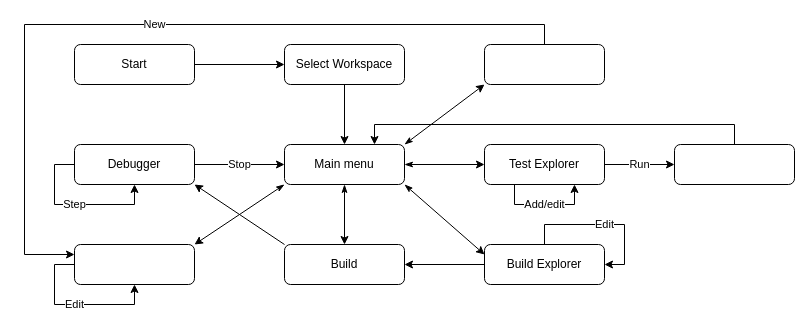
This 812x330 diagram has some shape labels left out. The box of each missing label's shape, as (x1, y1, x2, y2) in pixels:
Editor: (74, 244, 194, 284)
File Explorer: (484, 44, 604, 84)
Test Results: (674, 144, 794, 184)
